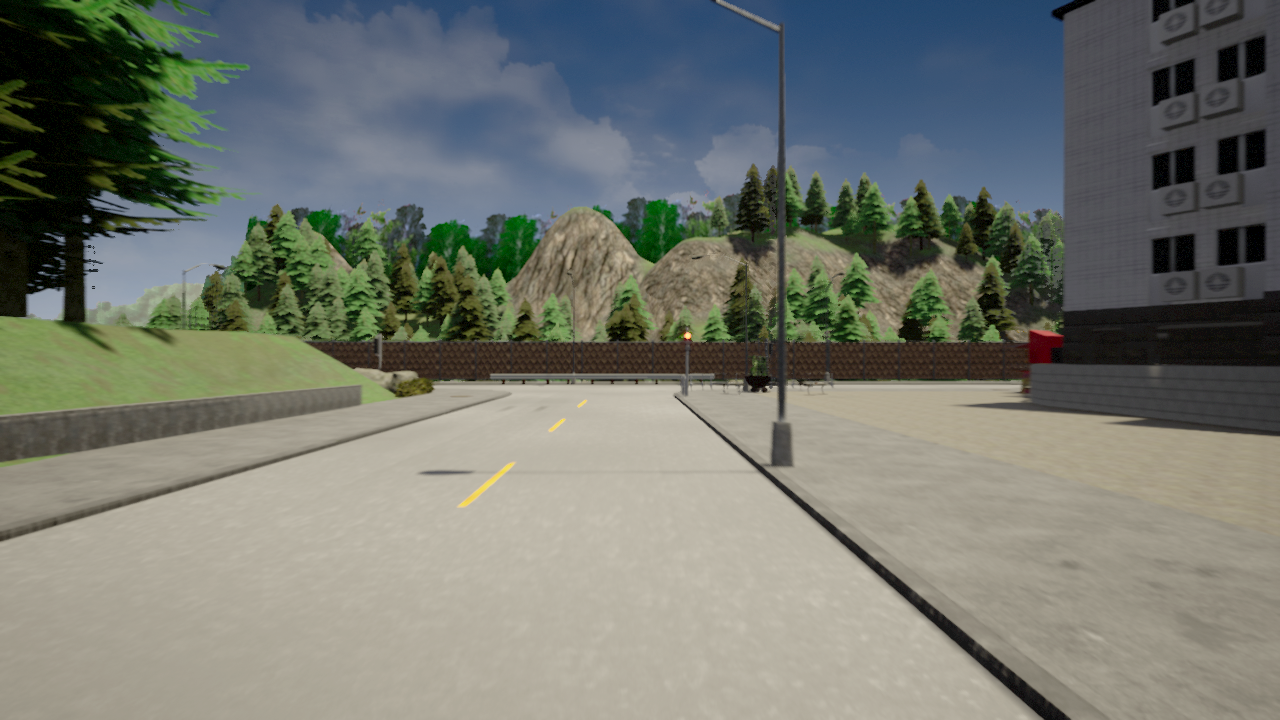red: (682, 330, 694, 353)
